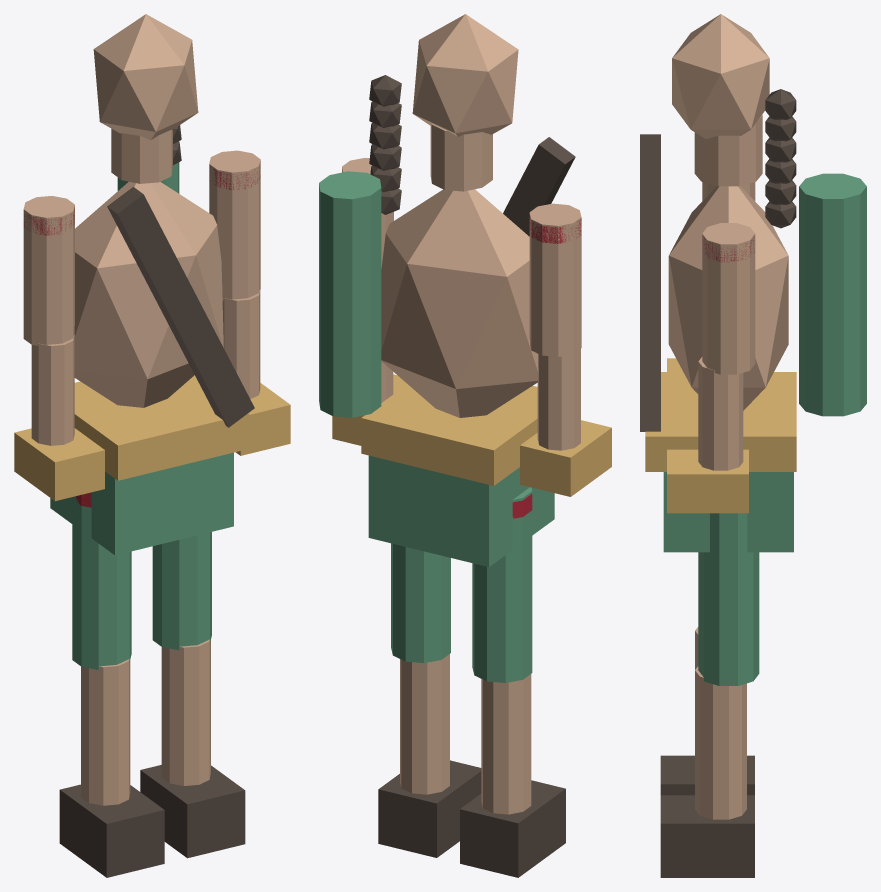
Rendered from fighter_atalanta.glb.
3 views of the same model, side by side, from view 1: azimuth 30°, elevation 25°; view 2: azimuth 150°, elevation 25°; view 3: azimuth 270°, elevation 25° (orthographic).
Visible parts, largest first — view 1: TORSO, PELVIS, BELT, HEAD, SASH, LEG_UPPER_L, ARM_UPPER_L, LEG_END_L, LEG_LOWER_R, LEG_LOWER_L, ARM_UPPER_R, LEG_END_R (+6 smaller); view 2: TORSO, QUIVER, PELVIS, BELT, HEAD, LEG_UPPER_L, ARM_UPPER_L, LEG_END_L, LEG_LOWER_L, LEG_UPPER_R, LEG_LOWER_R, LEG_END_R (+11 smaller); view 3: QUIVER, TORSO, LEG_UPPER_R, HEAD, BELT, ARM_UPPER_R, LEG_LOWER_R, LEG_END_R, SASH, PELVIS, ARM_LOWER_R, ARM_END_R (+8 smaller).
Boxes of the visible parts, <box> form: TORSO: <box>74,181,223,407</box>; PELVIS: <box>50,452,233,555</box>; BELT: <box>74,375,249,480</box>; HEAD: <box>93,14,198,140</box>; SASH: <box>107,187,254,427</box>; LEG_UPPER_L: <box>72,494,131,669</box>; ARM_UPPER_L: <box>23,196,74,345</box>; LEG_END_L: <box>59,784,164,877</box>; LEG_LOWER_R: <box>161,639,210,785</box>; LEG_LOWER_L: <box>81,659,130,805</box>; ARM_UPPER_R: <box>209,150,260,300</box>; LEG_END_R: <box>140,765,245,858</box>; TORSO: <box>381,189,538,417</box>; QUIVER: <box>319,171,381,417</box>; PELVIS: <box>368,455,554,566</box>; BELT: <box>361,384,537,485</box>; HEAD: <box>412,14,518,136</box>; LEG_UPPER_L: <box>472,487,532,682</box>; ARM_UPPER_L: <box>529,203,581,356</box>; LEG_END_L: <box>460,780,565,877</box>; LEG_LOWER_L: <box>481,674,531,814</box>; LEG_UPPER_R: <box>391,543,450,662</box>; LEG_LOWER_R: <box>400,654,449,794</box>; LEG_END_R: <box>378,760,481,857</box>; QUIVER: <box>799,173,866,416</box>; TORSO: <box>668,186,788,410</box>; LEG_UPPER_R: <box>698,513,759,685</box>; HEAD: <box>672,14,769,138</box>; BELT: <box>645,372,796,471</box>; ARM_UPPER_R: <box>702,223,755,374</box>; LEG_LOWER_R: <box>695,666,746,819</box>; LEG_END_R: <box>660,795,754,877</box>; SASH: <box>640,134,660,431</box>; PELVIS: <box>663,472,793,552</box>; ARM_LOWER_R: <box>698,357,743,470</box>; ARM_END_R: <box>667,449,748,513</box>.
Size of the model in its own units: 0.5249 by 1.76 by 0.435.
